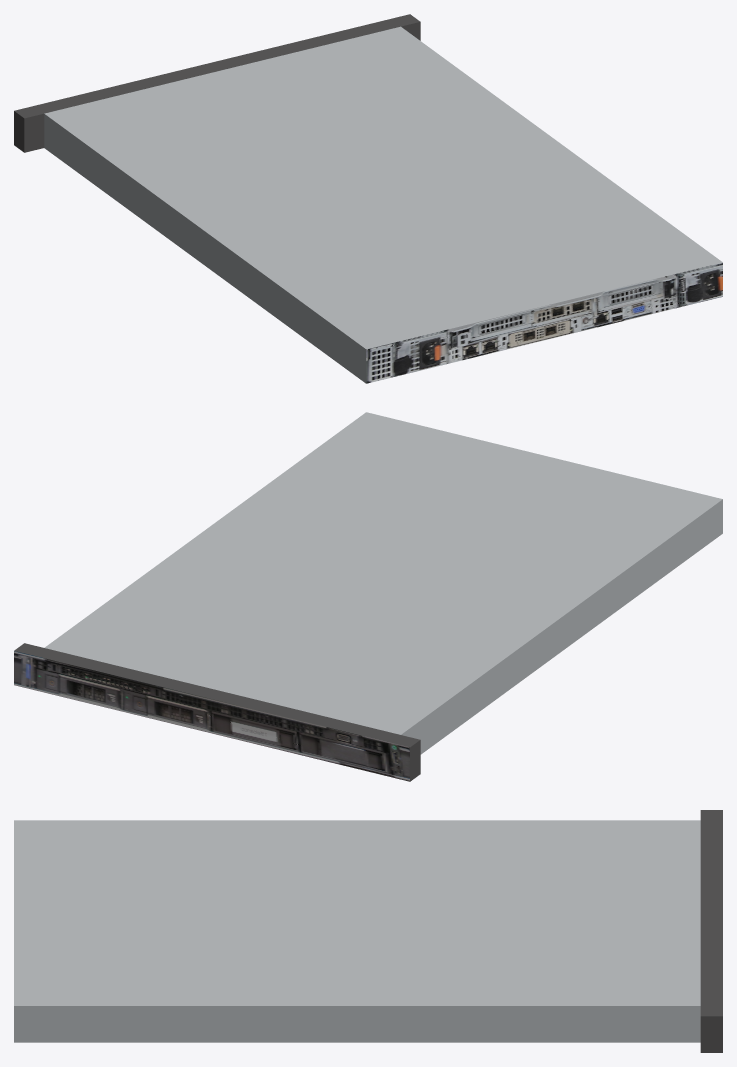
3 renders of one model, top to bottom at view 1: azimuth 30°, elevation 25°; view 2: azimuth 150°, elevation 25°; view 3: azimuth 270°, elevation 25°, orthographic. The views are drawn at different scales.
Parts seen in each view (by area): view 1: Chassis_Cube; view 2: Chassis_Cube; view 3: Chassis_Cube.
Boxes of the visible parts, x1,y1,x2,y2 form: Chassis_Cube: (14,14,722,383); Chassis_Cube: (14,412,722,781); Chassis_Cube: (14,810,722,1052).
Size of the model in its own units: 0.6426 by 0.0533 by 0.9344.
